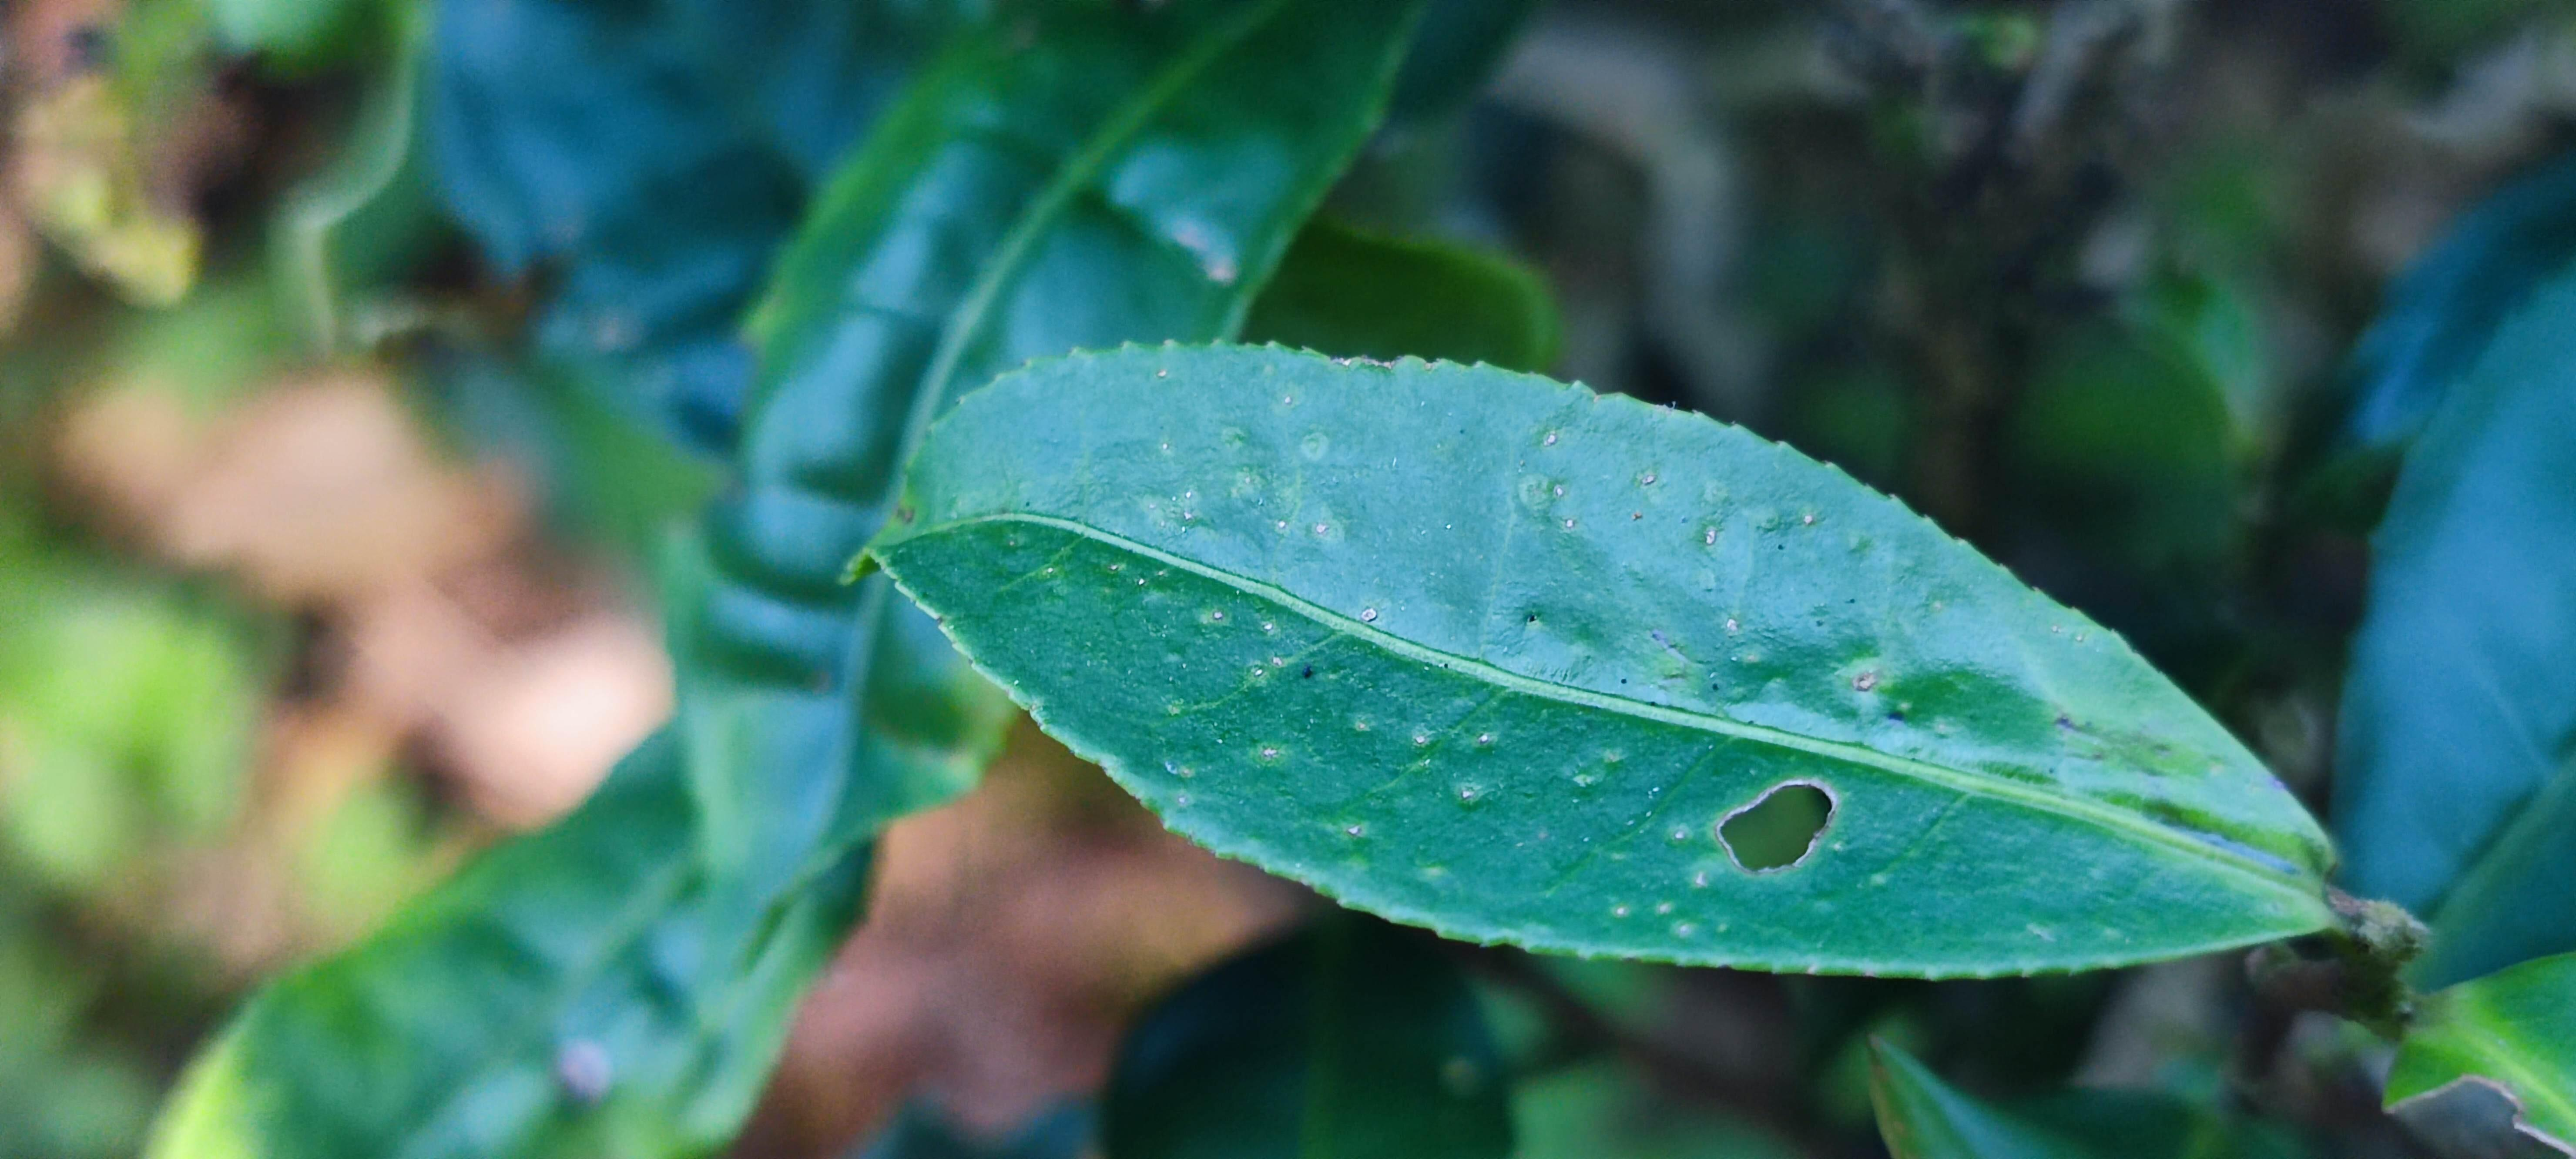chihuo_low: (839, 332, 2353, 990)
